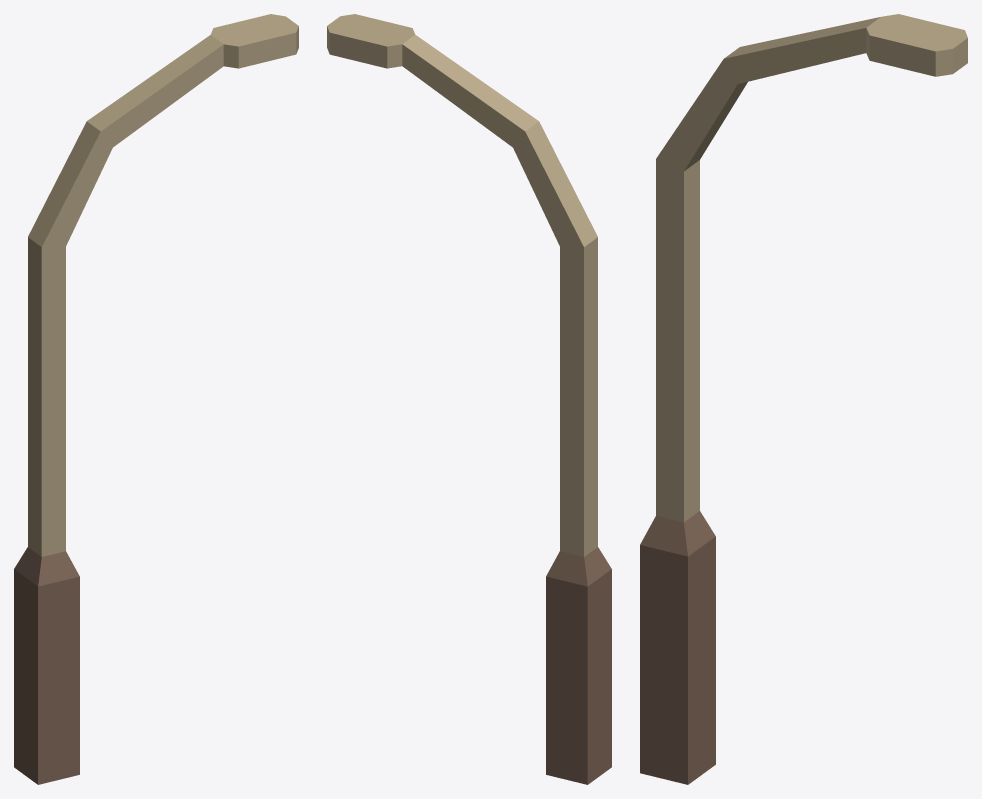
File: PropsFonar.fbx
The picture shows the model from 3 angles, left to right: view 1: azimuth 30°, elevation 25°; view 2: azimuth 150°, elevation 25°; view 3: azimuth 330°, elevation 25°; orthographic projection. The views are drawn at different scales.
Visible parts, largest first — view 1: Plane.022; view 2: Plane.022; view 3: Plane.022.
Part boxes in pixels (bbox=[...]): Plane.022: bbox=[14, 14, 298, 784]; Plane.022: bbox=[327, 14, 611, 784]; Plane.022: bbox=[640, 14, 967, 784].
Size of the model in its own units: 39.18 by 97.02 by 6.47.
